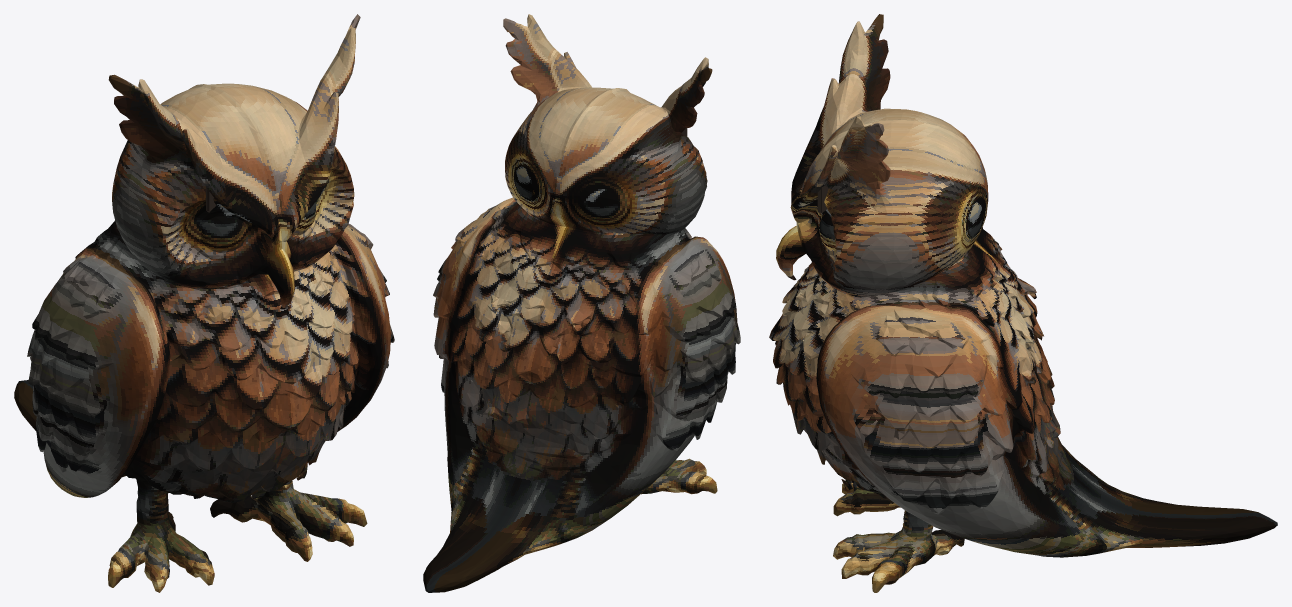
Rendered from owl.glb.
The picture shows the model from 3 angles, left to right: view 1: azimuth 30°, elevation 25°; view 2: azimuth 150°, elevation 25°; view 3: azimuth 270°, elevation 25°; orthographic projection. The views are drawn at different scales.
Visible parts, largest first — view 1: Body, Head, Lid; view 2: Body, Head, Lid; view 3: Body, Head, Lid.
Part boxes in pixels (x1=…): Body: x1=14, y1=222, x2=394, y2=592; Head: x1=110, y1=140, x2=354, y2=284; Lid: x1=108, y1=14, x2=360, y2=181; Body: x1=423, y1=197, x2=740, y2=592; Head: x1=503, y1=108, x2=707, y2=255; Lid: x1=503, y1=14, x2=712, y2=160; Body: x1=769, y1=227, x2=1277, y2=592; Head: x1=776, y1=129, x2=988, y2=292; Lid: x1=815, y1=14, x2=977, y2=195.
Bounding box in the file's own units: 1.35 × 2 × 1.95.
Materials: 2 (1 with a texture image).
